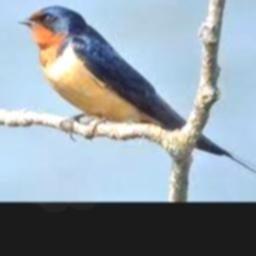Swallow: (18, 5, 256, 182)
